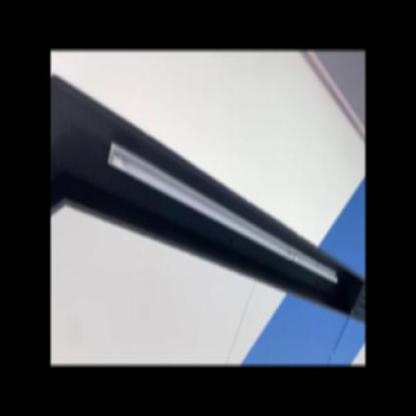light_off: (104, 131, 342, 292)
